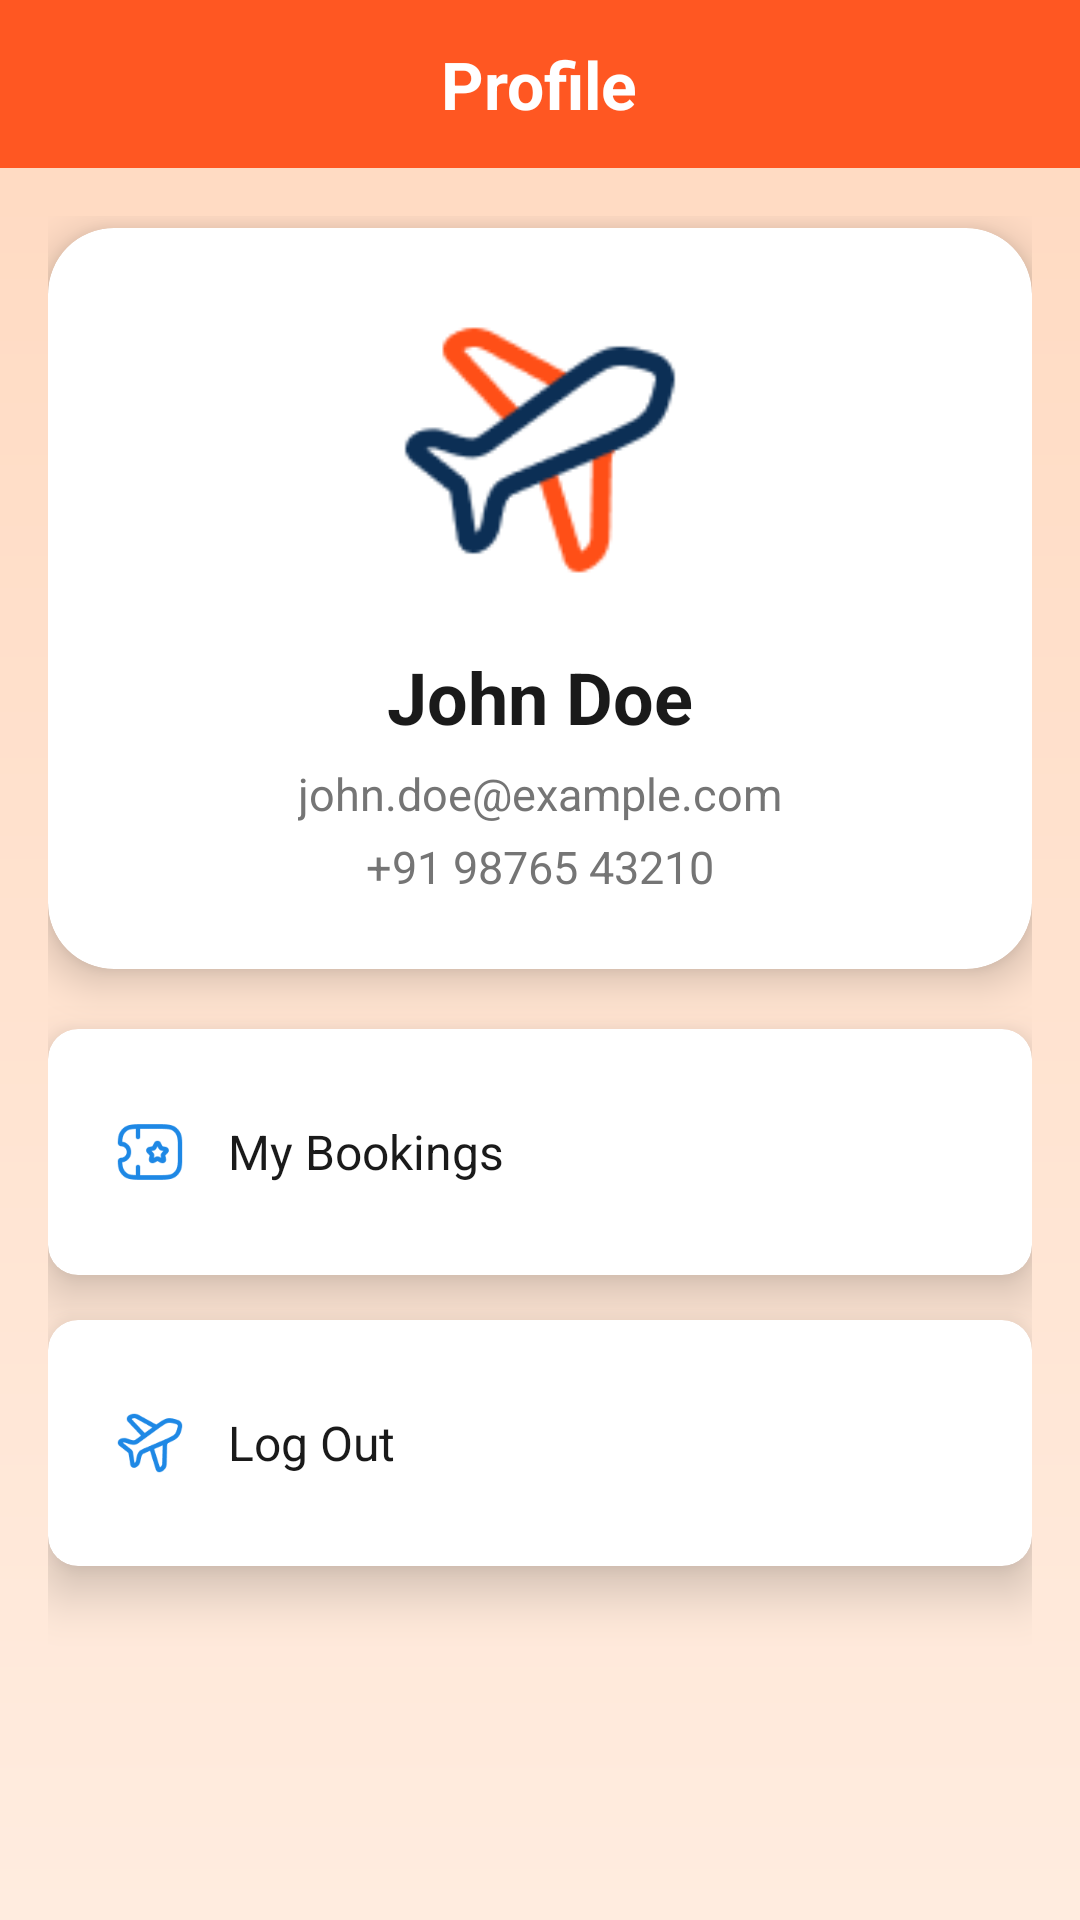

Icon bounding boxes for this 1080x1920 phone screenshot, format (x1, y1, x2, y2):
aeroplane: (404, 327, 676, 573), (117, 1413, 183, 1473)
ticket: (117, 1124, 183, 1180)
